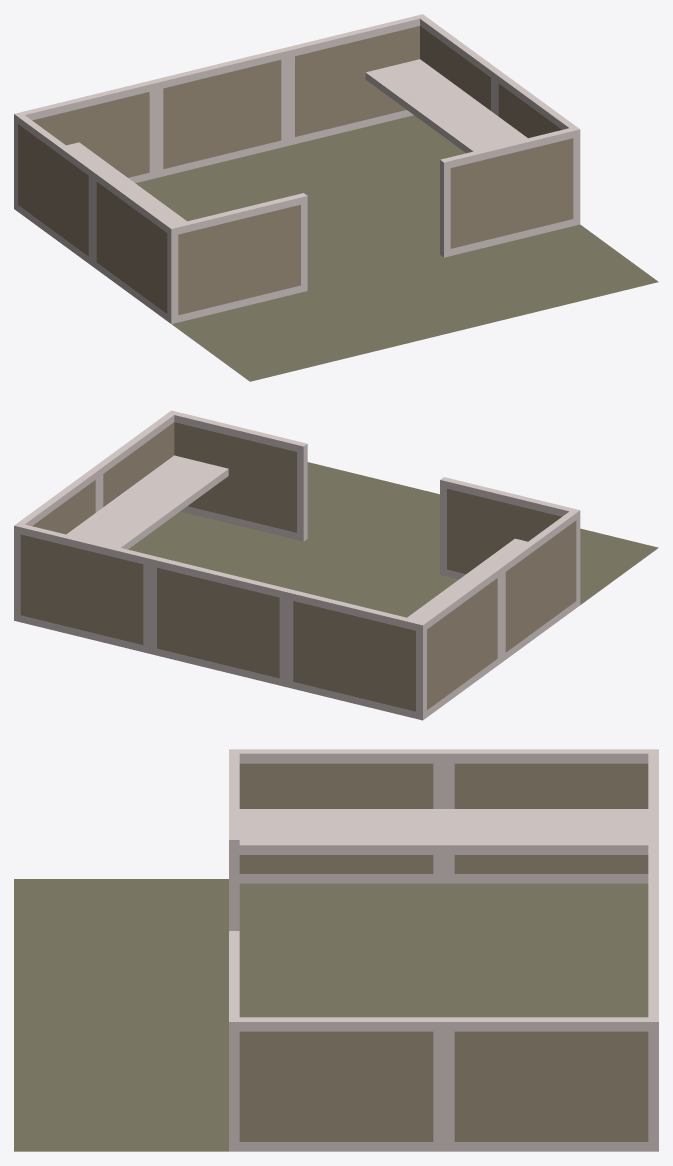
Rendered from office1.glb.
3 views of the same model, one above another, from view 1: azimuth 30°, elevation 25°; view 2: azimuth 150°, elevation 25°; view 3: azimuth 270°, elevation 25° (orthographic). The views are drawn at different scales.
Parts seen in each view (by area): view 1: Cubical Panel, Plane, Cubical Frame, Desk; view 2: Cubical Panel, Plane, Cubical Frame, Desk; view 3: Plane, Cubical Panel, Cubical Frame, Desk.
Boxes of the visible parts, x1,y1,x2,y2 form: Cubical Panel: (18, 26, 573, 315); Plane: (135, 115, 658, 381); Cubical Frame: (14, 14, 580, 323); Desk: (66, 59, 527, 224); Cubical Panel: (20, 422, 576, 711); Plane: (128, 462, 658, 617); Cubical Frame: (14, 410, 580, 720); Desk: (66, 455, 527, 620); Plane: (14, 879, 648, 1151); Cubical Panel: (239, 763, 648, 1141); Cubical Frame: (229, 749, 658, 1151); Desk: (239, 809, 648, 854).
Size of the model in its own units: 4.5 by 1 by 4.5.
